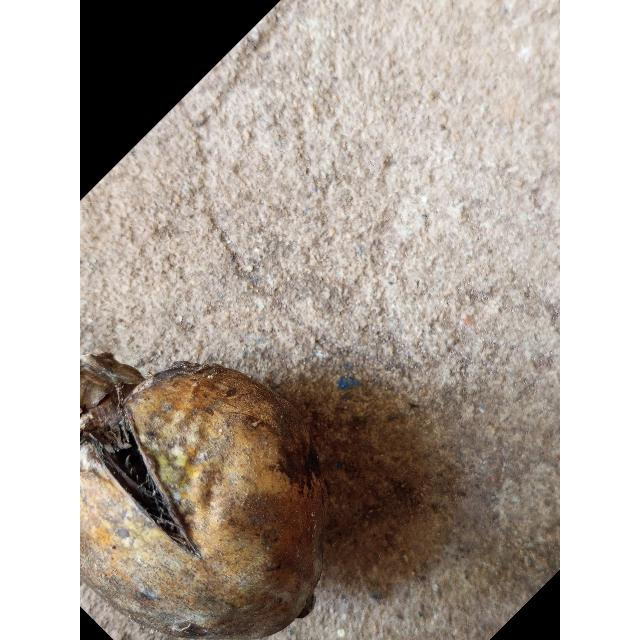damaged: (80, 353, 339, 640)
